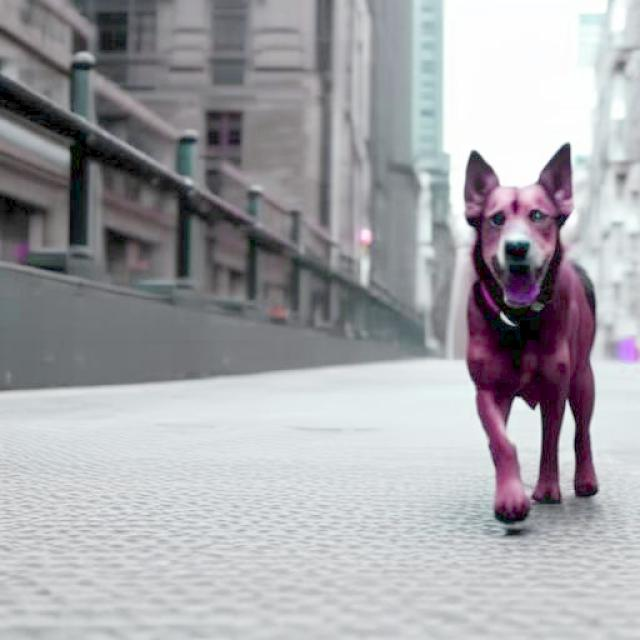Dog: (464, 141, 599, 523)
